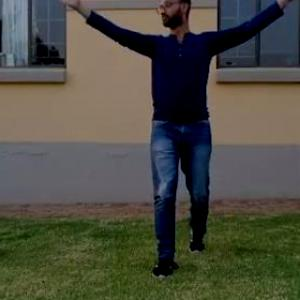takeoff: (154, 24, 295, 196)
